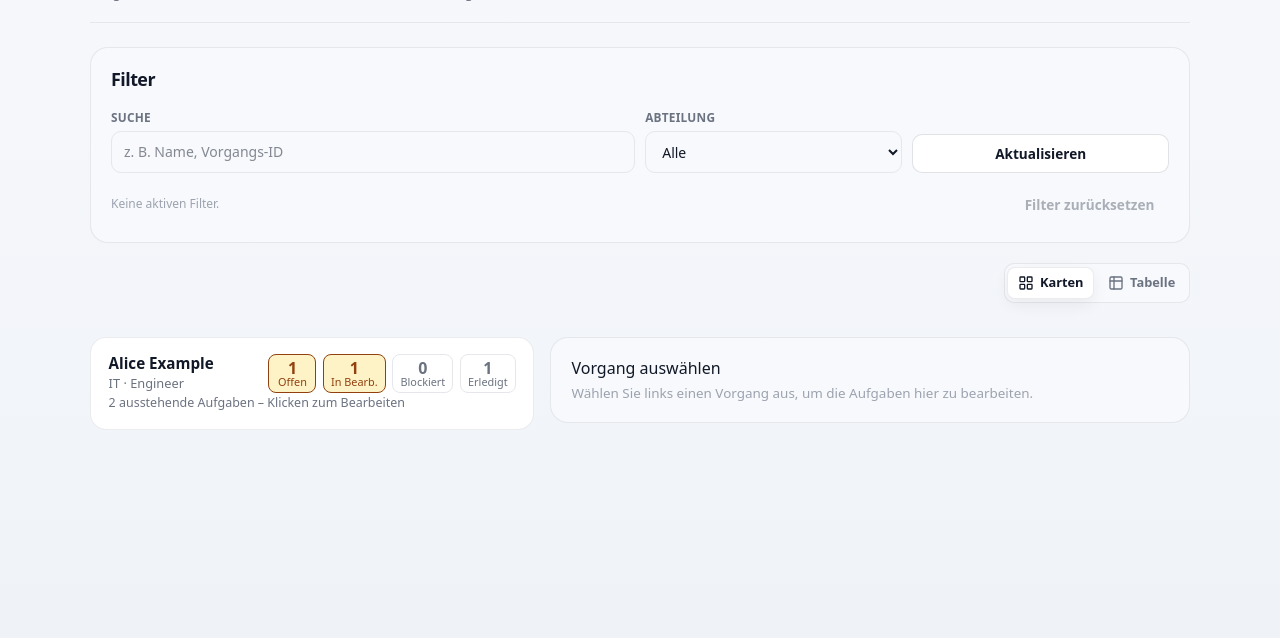
MyTasksPage › groups tasks by their visible status buckets after selecting a workflow
The width and height of the screenshot is (1280, 638).
// Click on the single workflow summary card to enter detail view
Click the button "Alice Example". click: [312, 383]
box: [90,337,534,430]
(page scrolled)
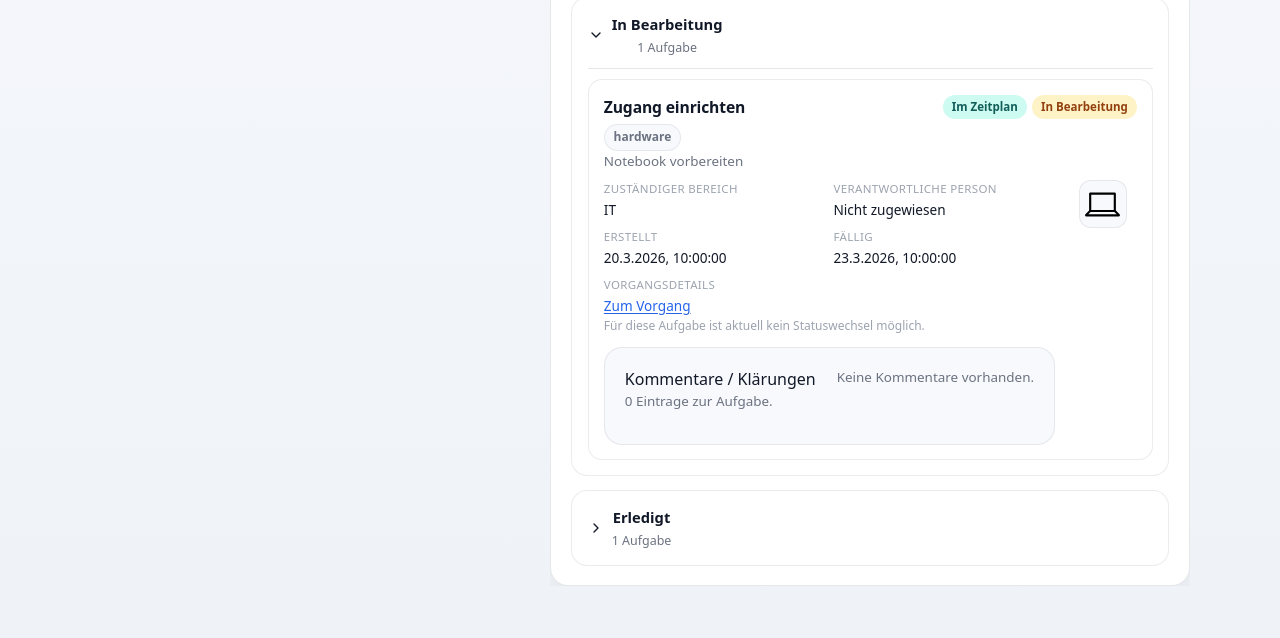
Expected: the heading "In Bearbeitung" is shown, [612,13,722,36]
Expected: the heading "Erledigt" is shown, [612,506,671,529]
